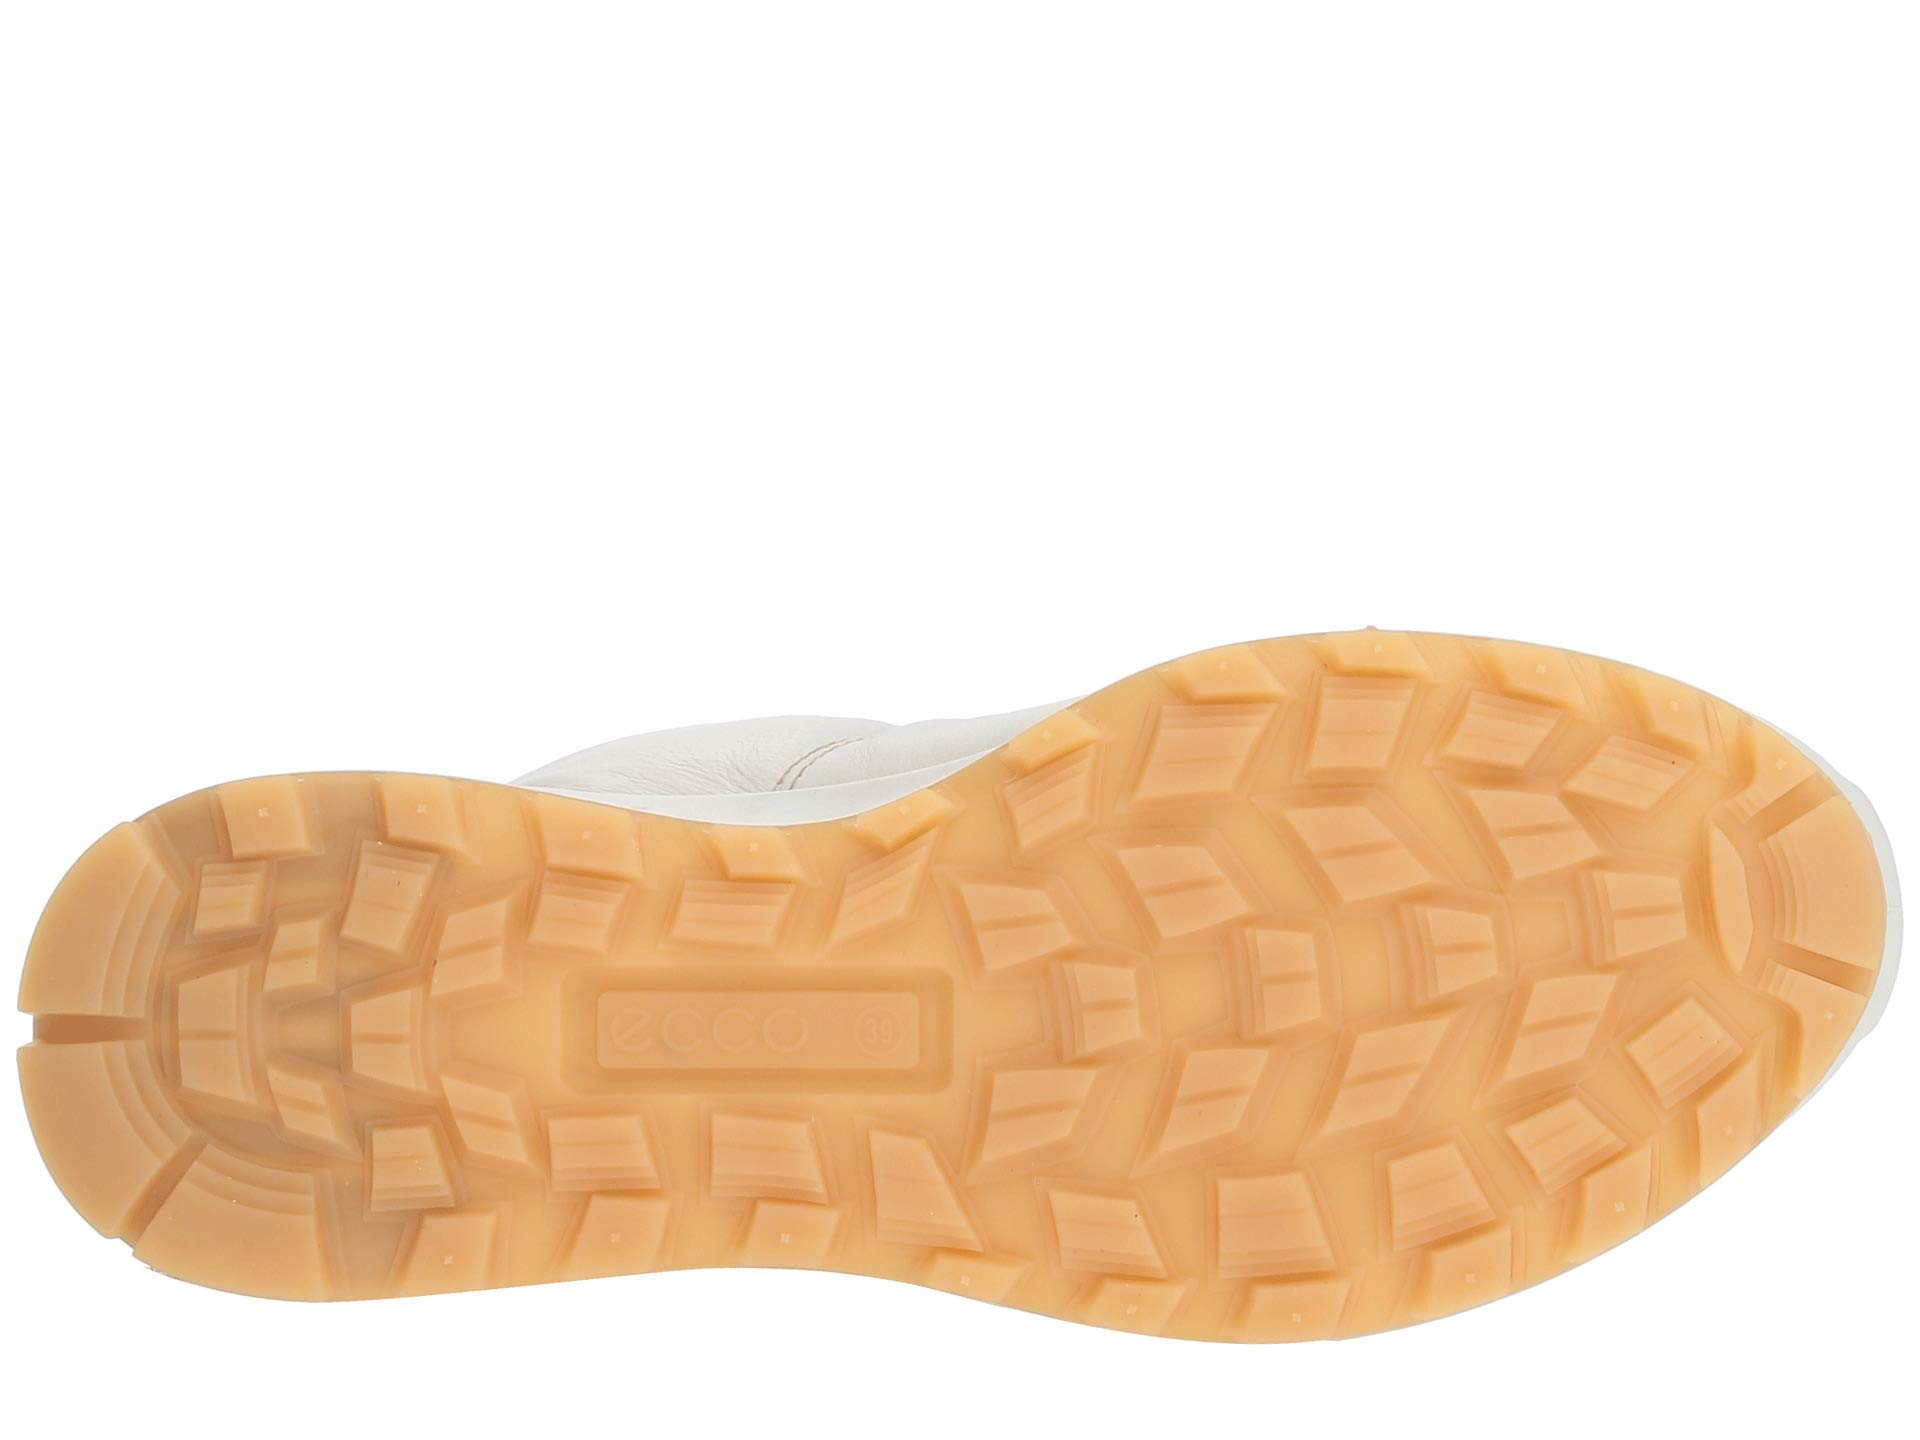circle: (578, 967, 922, 1091), (361, 738, 636, 880)
line: (1101, 702, 1631, 1245), (129, 821, 328, 1136)
quad: (1101, 702, 1631, 1245), (129, 821, 328, 1136), (578, 967, 922, 1091), (361, 738, 636, 880)
text: (578, 967, 922, 1091)
